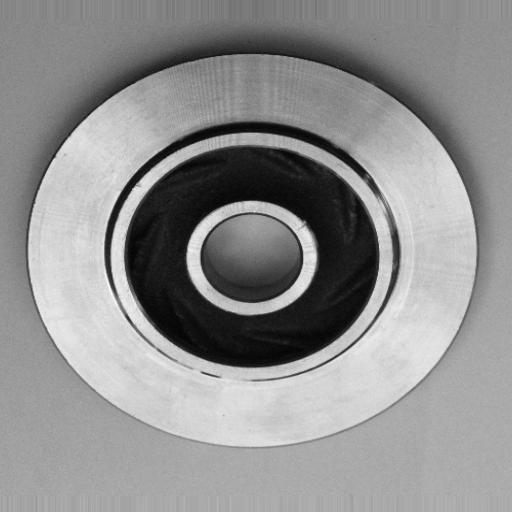unpolished_casting: (28, 51, 478, 452)
